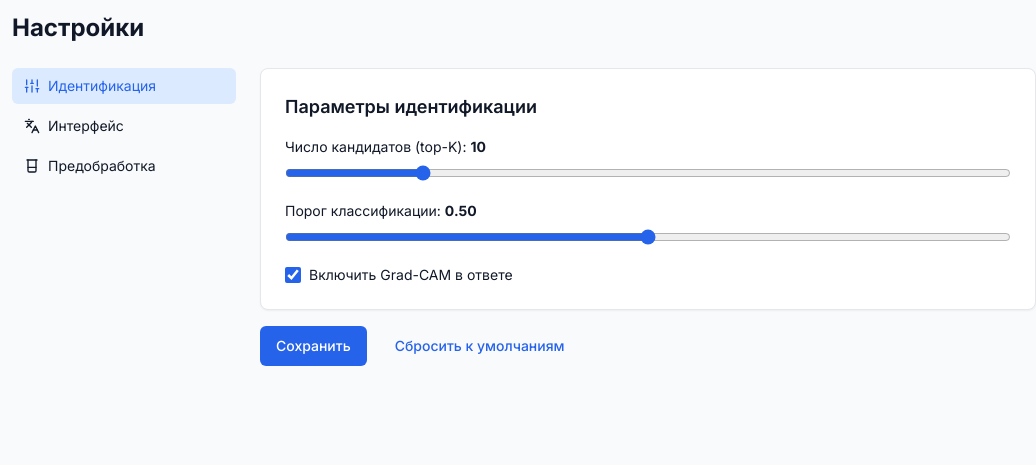
it: SettingsPage › Save вызывает updateSettings и показывает success-alert
The image size is (1036, 465).
Click the button "Сохранить".
click(313, 346)  # box [260,326,367,366]
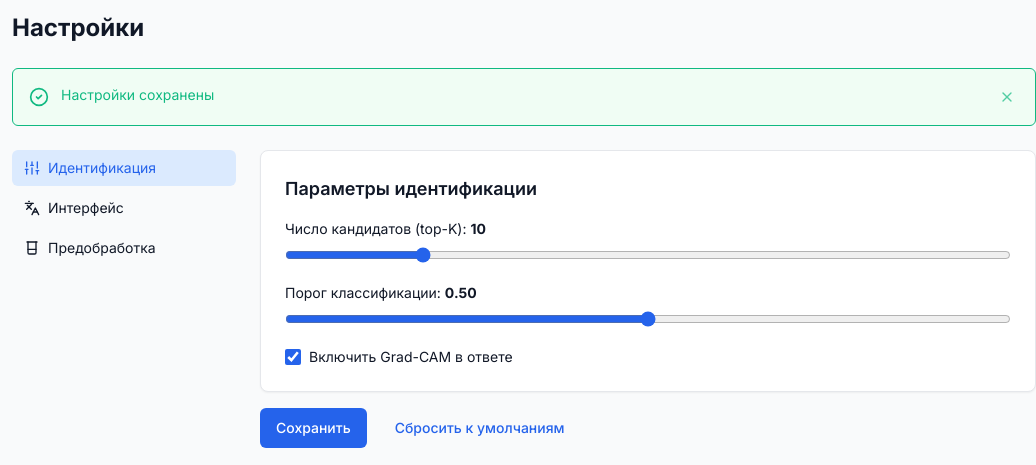
Expected: the text "Настройки сохранены" is shown, [61,86,214,103]
